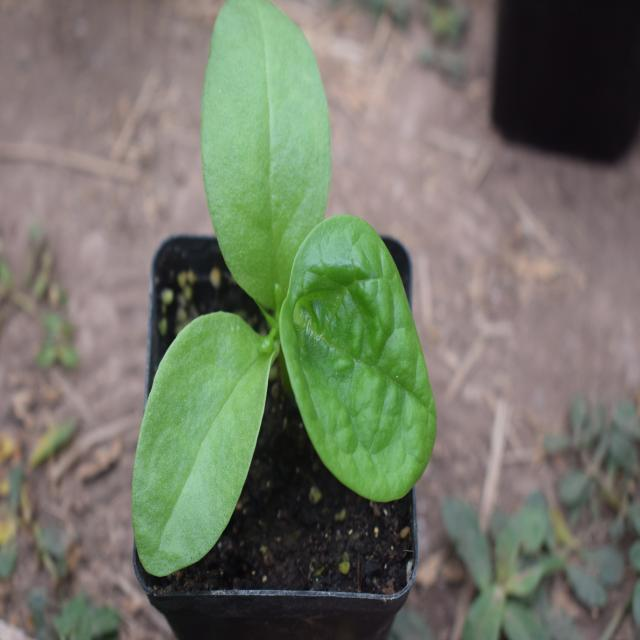Ceylon spinach: (80, 13, 462, 559)
